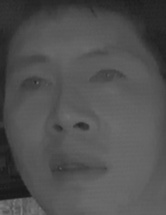eye: (88, 65, 128, 89), (19, 73, 55, 94)
mouth: (42, 148, 110, 185)
